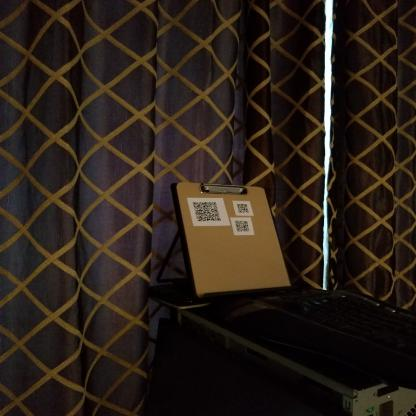qr: (191, 198, 222, 223), (234, 219, 253, 233), (235, 202, 251, 214)
